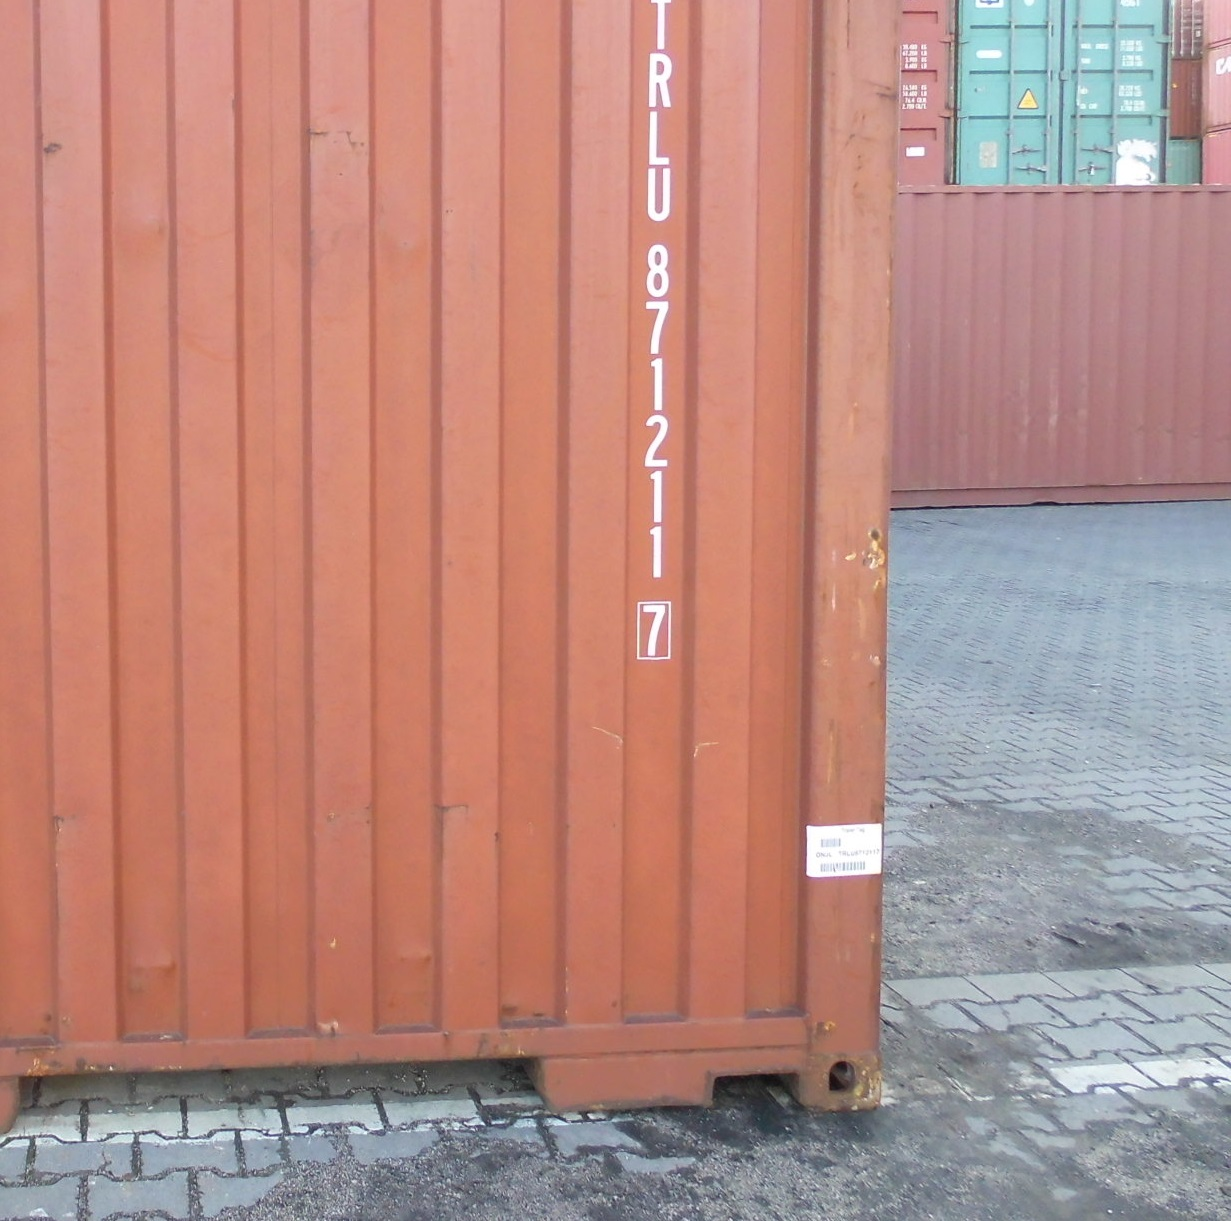container_door: (951, 3, 1164, 188)
container_no_door: (1, 1, 897, 1119)
